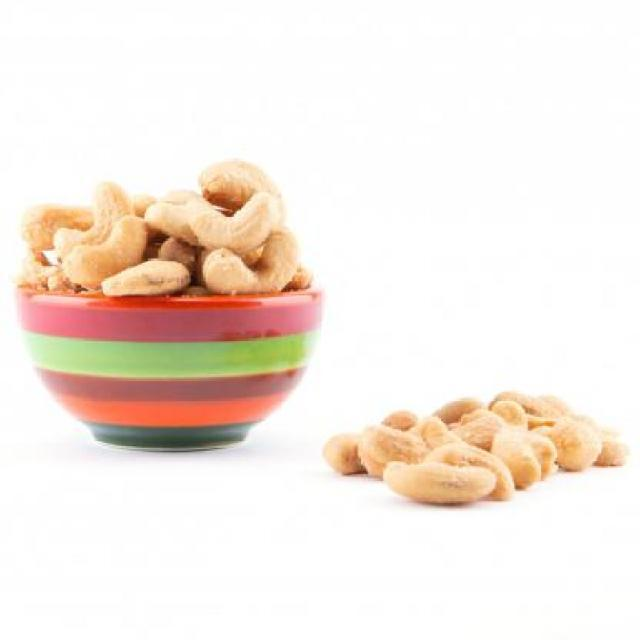Frutta secca: (15, 156, 328, 310), (330, 393, 633, 513)
